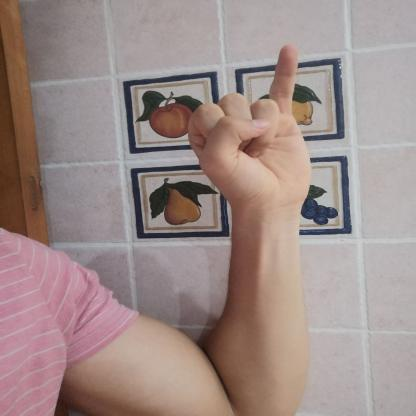MEEM: (168, 35, 339, 218)
